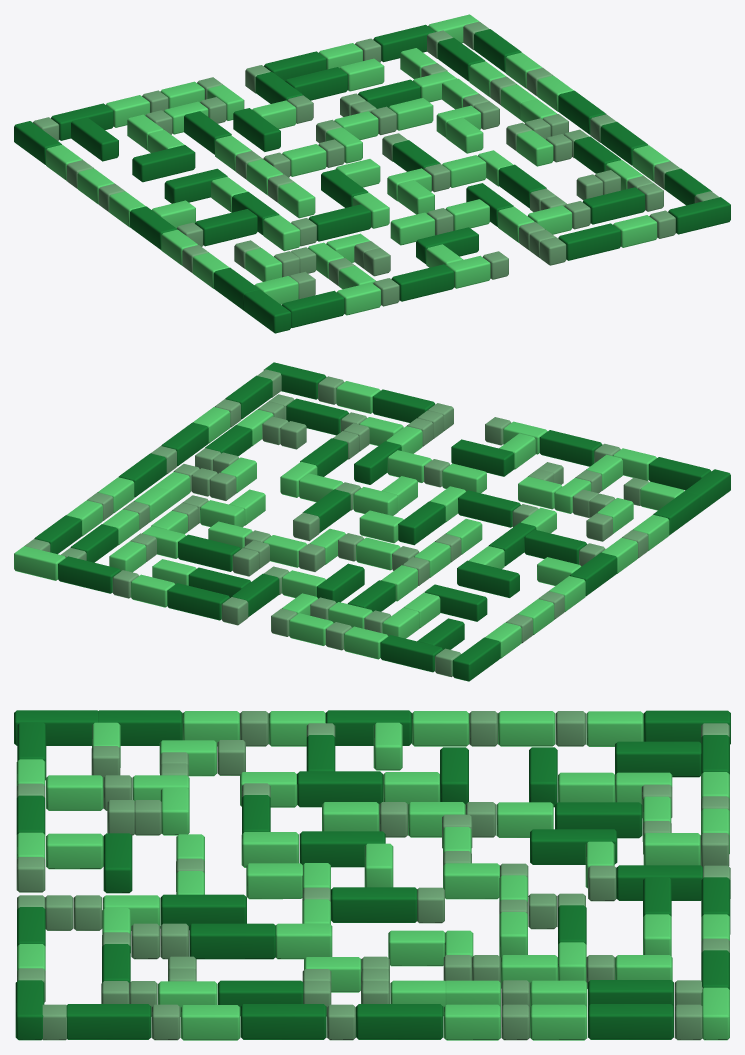
The model's file is SM_Maze_02a.fbx.
3 views of the same model, one above another, from view 1: azimuth 30°, elevation 25°; view 2: azimuth 150°, elevation 25°; view 3: azimuth 270°, elevation 25° (orthographic). The views are drawn at different scales.
Parts seen in each view (by area): view 1: cespuglio_low516, cespuglio_low493, cespuglio_low515; view 2: cespuglio_low516, cespuglio_low493, cespuglio_low515; view 3: cespuglio_low516, cespuglio_low493, cespuglio_low515.
Part boxes in pixels (<box>): cespuglio_low516: <box>46,14,670,315</box>; cespuglio_low493: <box>14,24,730,333</box>; cespuglio_low515: <box>33,21,719,306</box>; cespuglio_low516: <box>14,381,684,659</box>; cespuglio_low493: <box>34,362,730,681</box>; cespuglio_low515: <box>25,369,649,677</box>; cespuglio_low516: <box>16,711,729,1040</box>; cespuglio_low493: <box>14,710,730,1040</box>; cespuglio_low515: <box>16,711,730,1040</box>.
Bounding box in the file's own units: 2523 × 102 × 2496.
